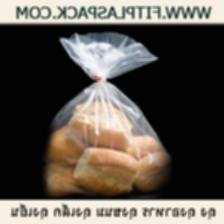snack: (34, 25, 177, 200)
